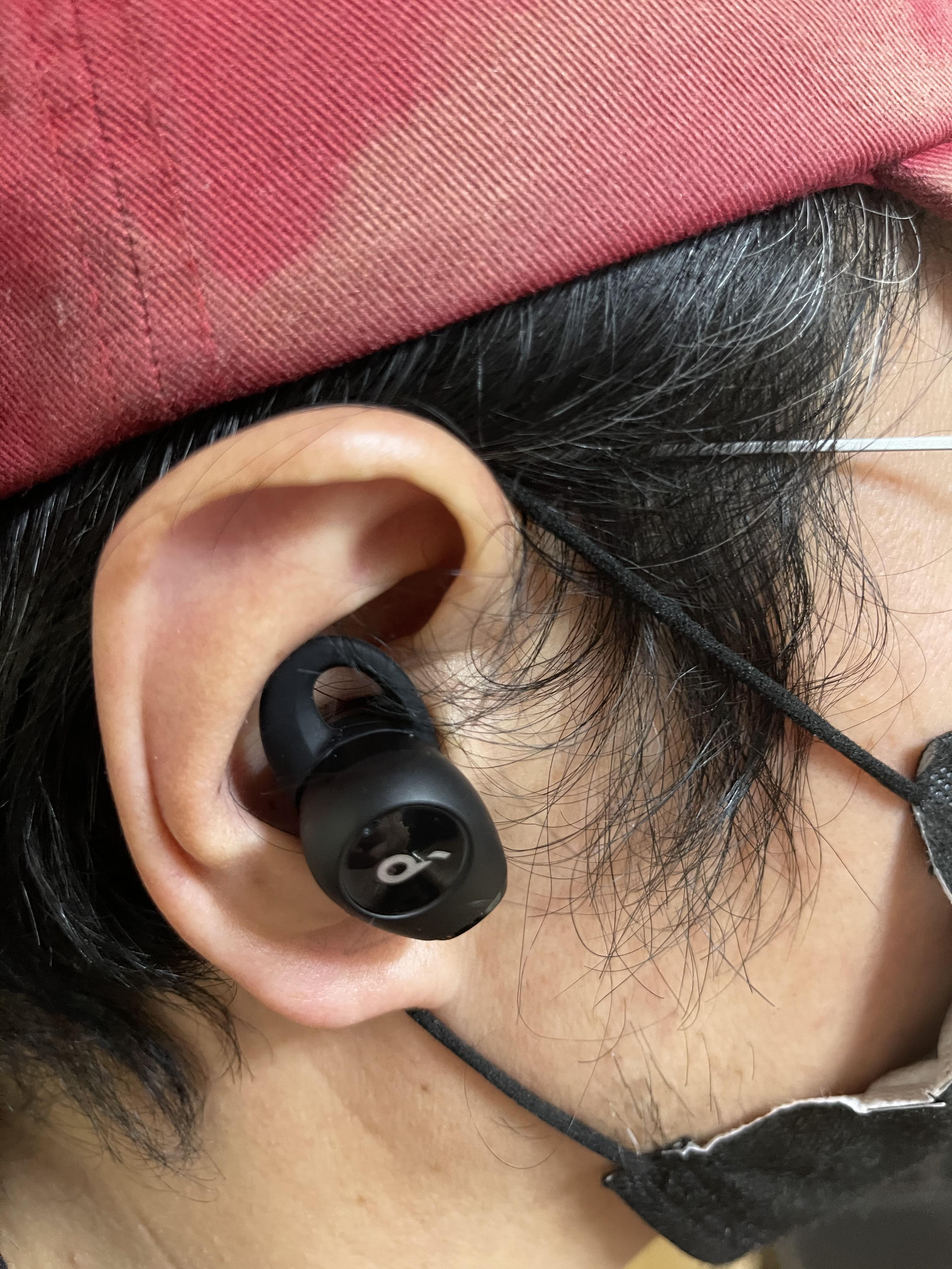earphone: (228, 586, 524, 951)
